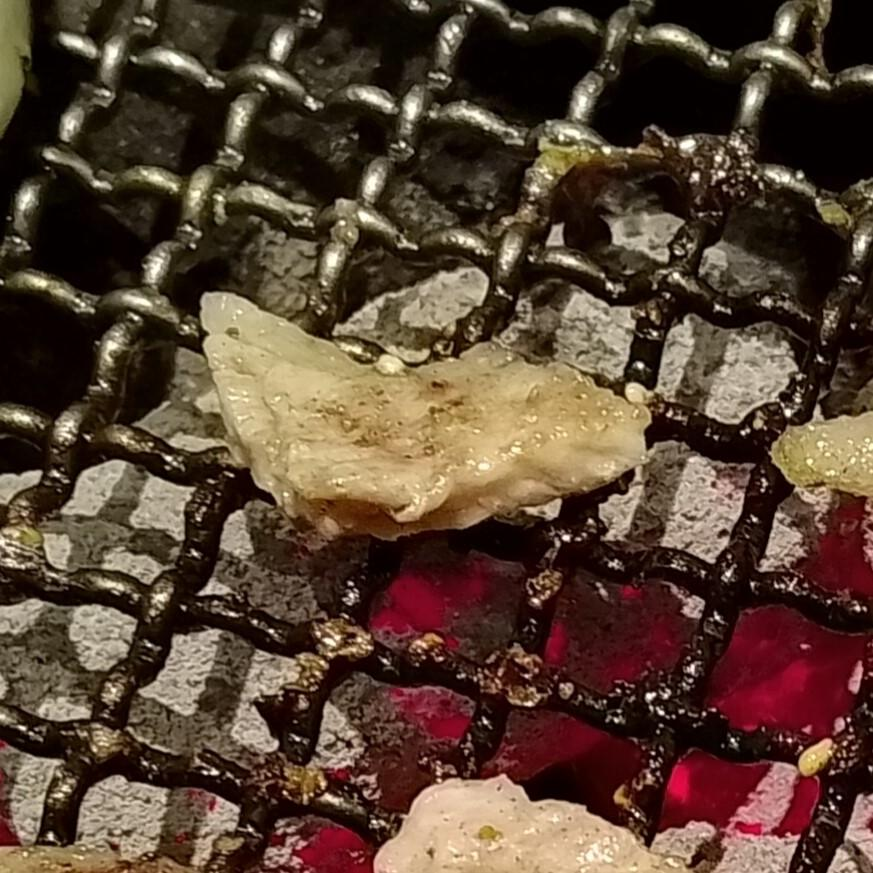Overcooked: (198, 293, 654, 544)
